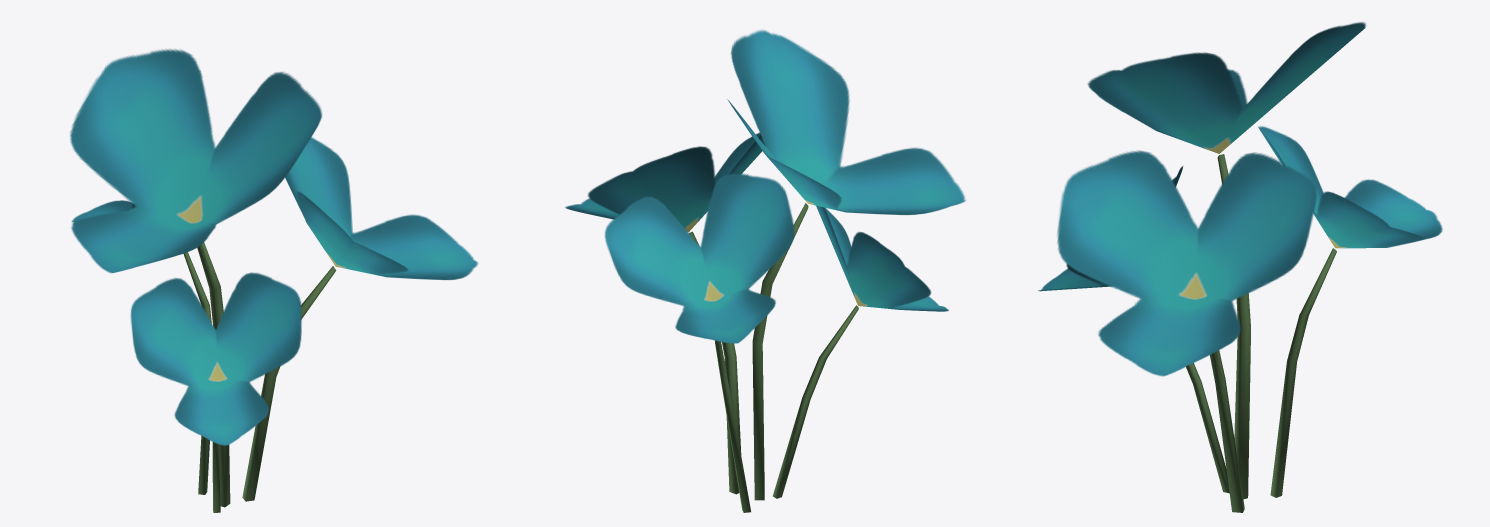
File: flowers-2.glb
3 views of the same model, side by side, from view 1: azimuth 30°, elevation 25°; view 2: azimuth 150°, elevation 25°; view 3: azimuth 270°, elevation 25° (orthographic). The views are drawn at different scales.
Visible parts, largest first — view 1: Flower_3_Clump; view 2: Flower_3_Clump; view 3: Flower_3_Clump.
Boxes of the visible parts, box(x1,y1,x2,y2) form: Flower_3_Clump: box(70, 49, 478, 512); Flower_3_Clump: box(565, 30, 965, 512); Flower_3_Clump: box(1038, 22, 1442, 512).
Bounding box in the file's own units: 0.426 × 0.4508 × 0.3735.
1 material, 1 textured.
